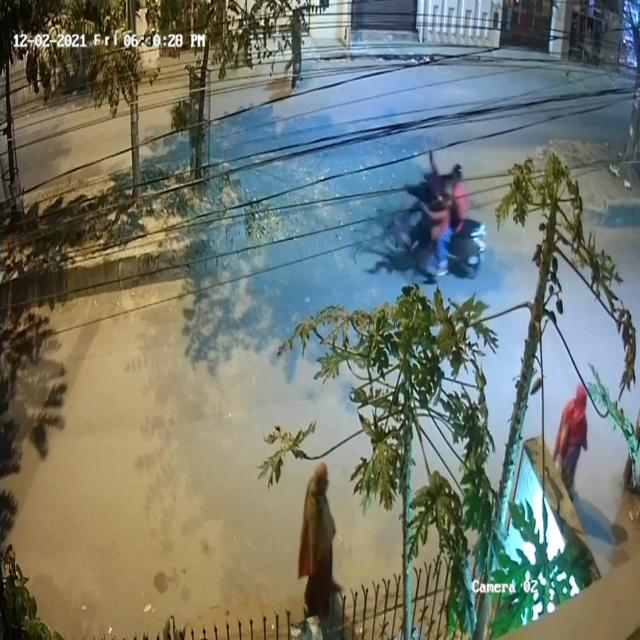accident: (384, 145, 486, 283)
